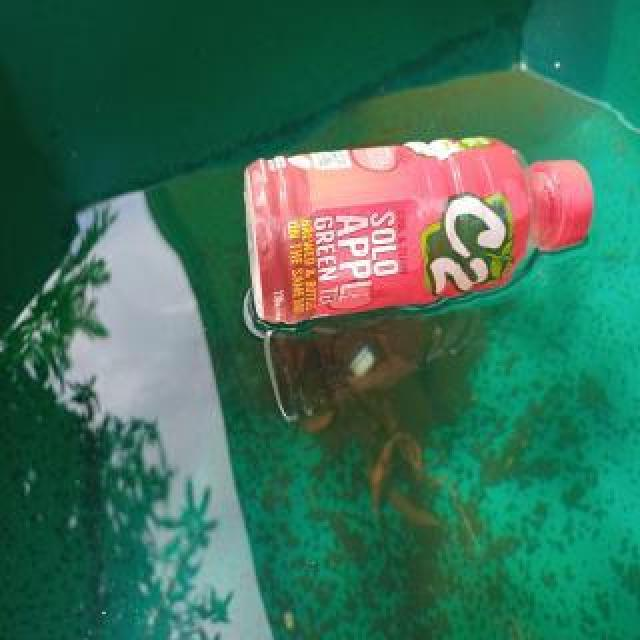bottle: (242, 131, 594, 329)
